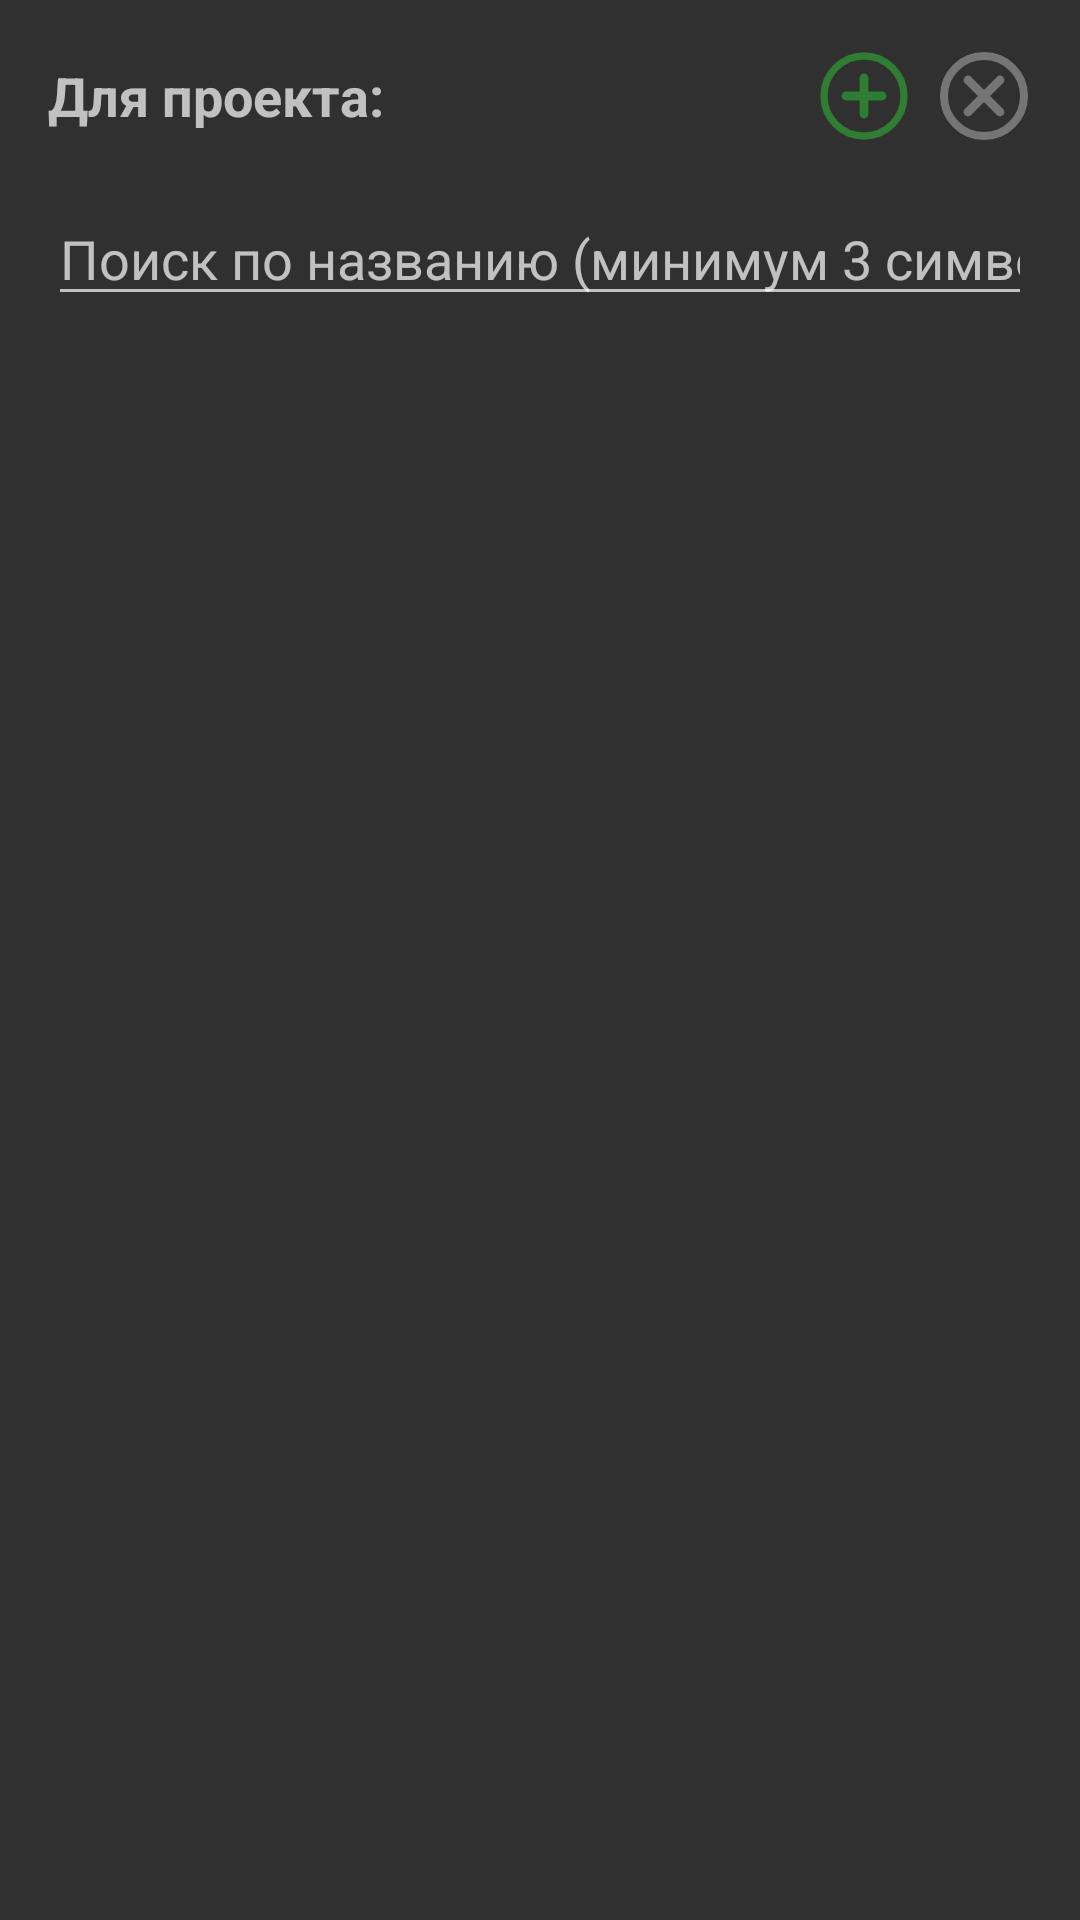

Locate icon controls on the screen. Image size 1080x1920, boxes as bbox=(x1, y1, x2, y2).
Добавить: bbox=(820, 52, 908, 140)
